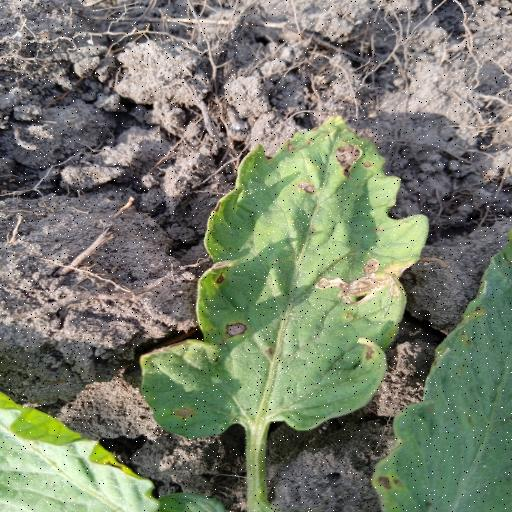Tomato_Mildiou: (135, 114, 448, 446)
